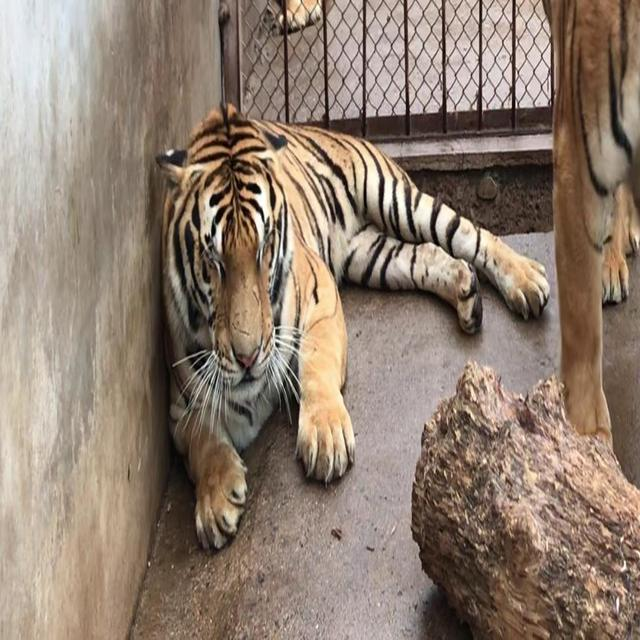tiger: (135, 79, 555, 554), (540, 0, 639, 464)
